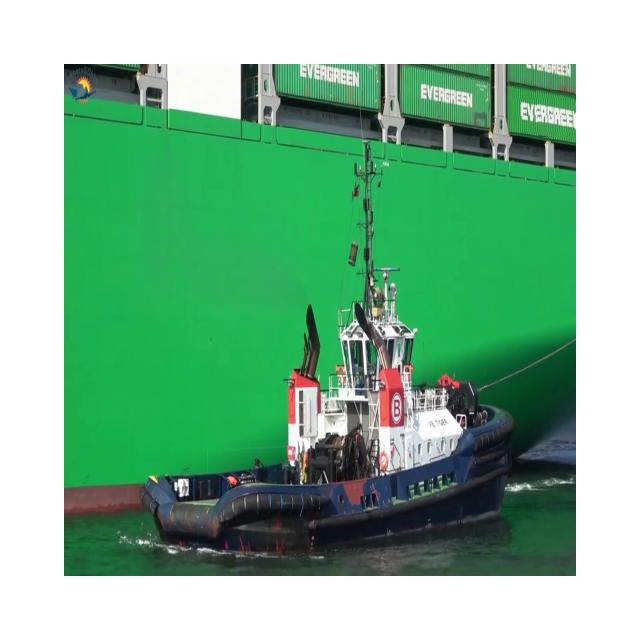OCR: (513, 90, 575, 138)
